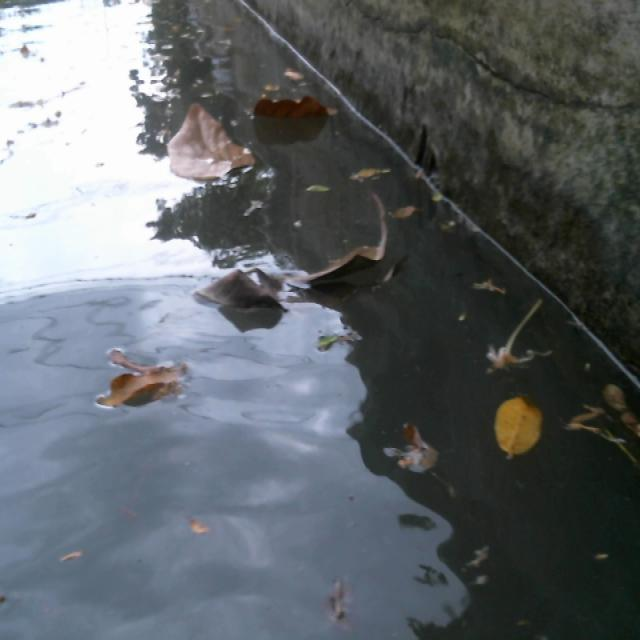Big-leaf: (192, 198, 395, 326), (95, 343, 206, 433), (164, 101, 258, 191), (255, 93, 338, 131)
Small-leaf: (396, 401, 462, 486), (493, 390, 551, 470), (35, 530, 94, 579), (185, 513, 230, 557), (347, 161, 408, 183), (472, 275, 515, 305), (394, 192, 432, 223), (281, 51, 310, 84), (610, 379, 628, 413), (302, 177, 334, 194)
